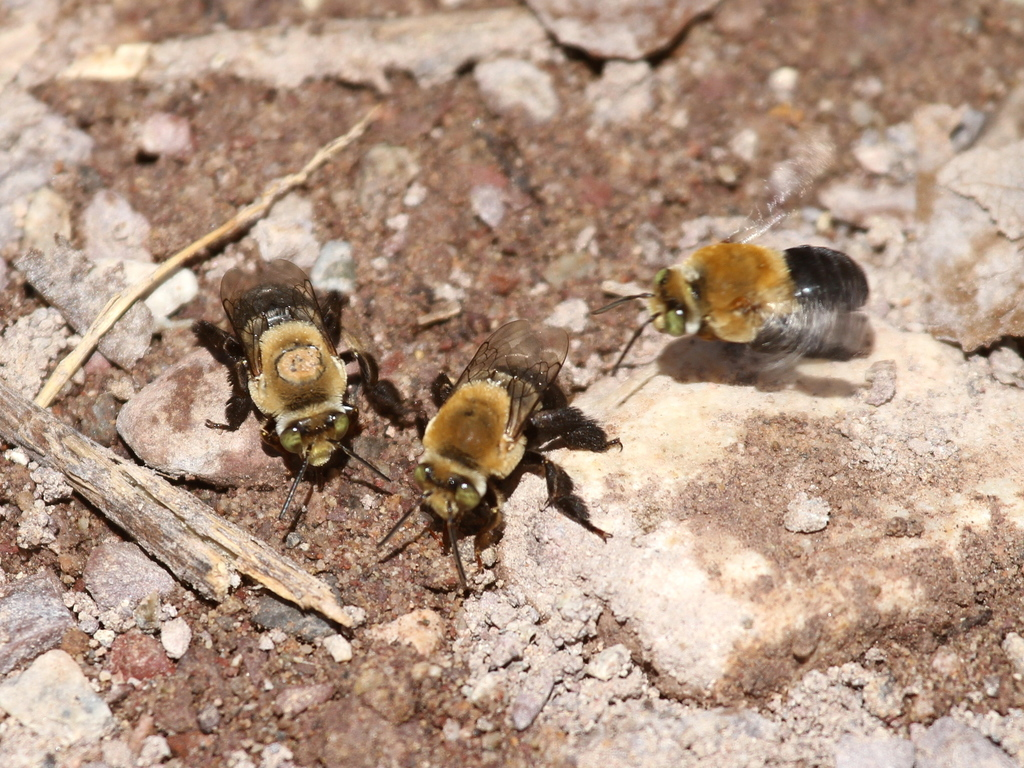centris: (375, 319, 625, 600), (591, 174, 876, 378), (190, 257, 393, 520)
